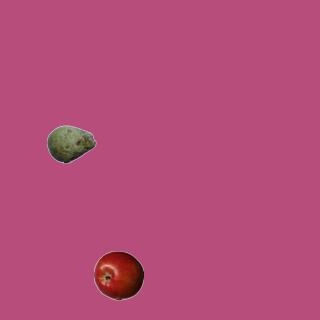Apple Braeburn: (93, 250, 143, 300)
Pear Stone: (46, 119, 96, 169)
